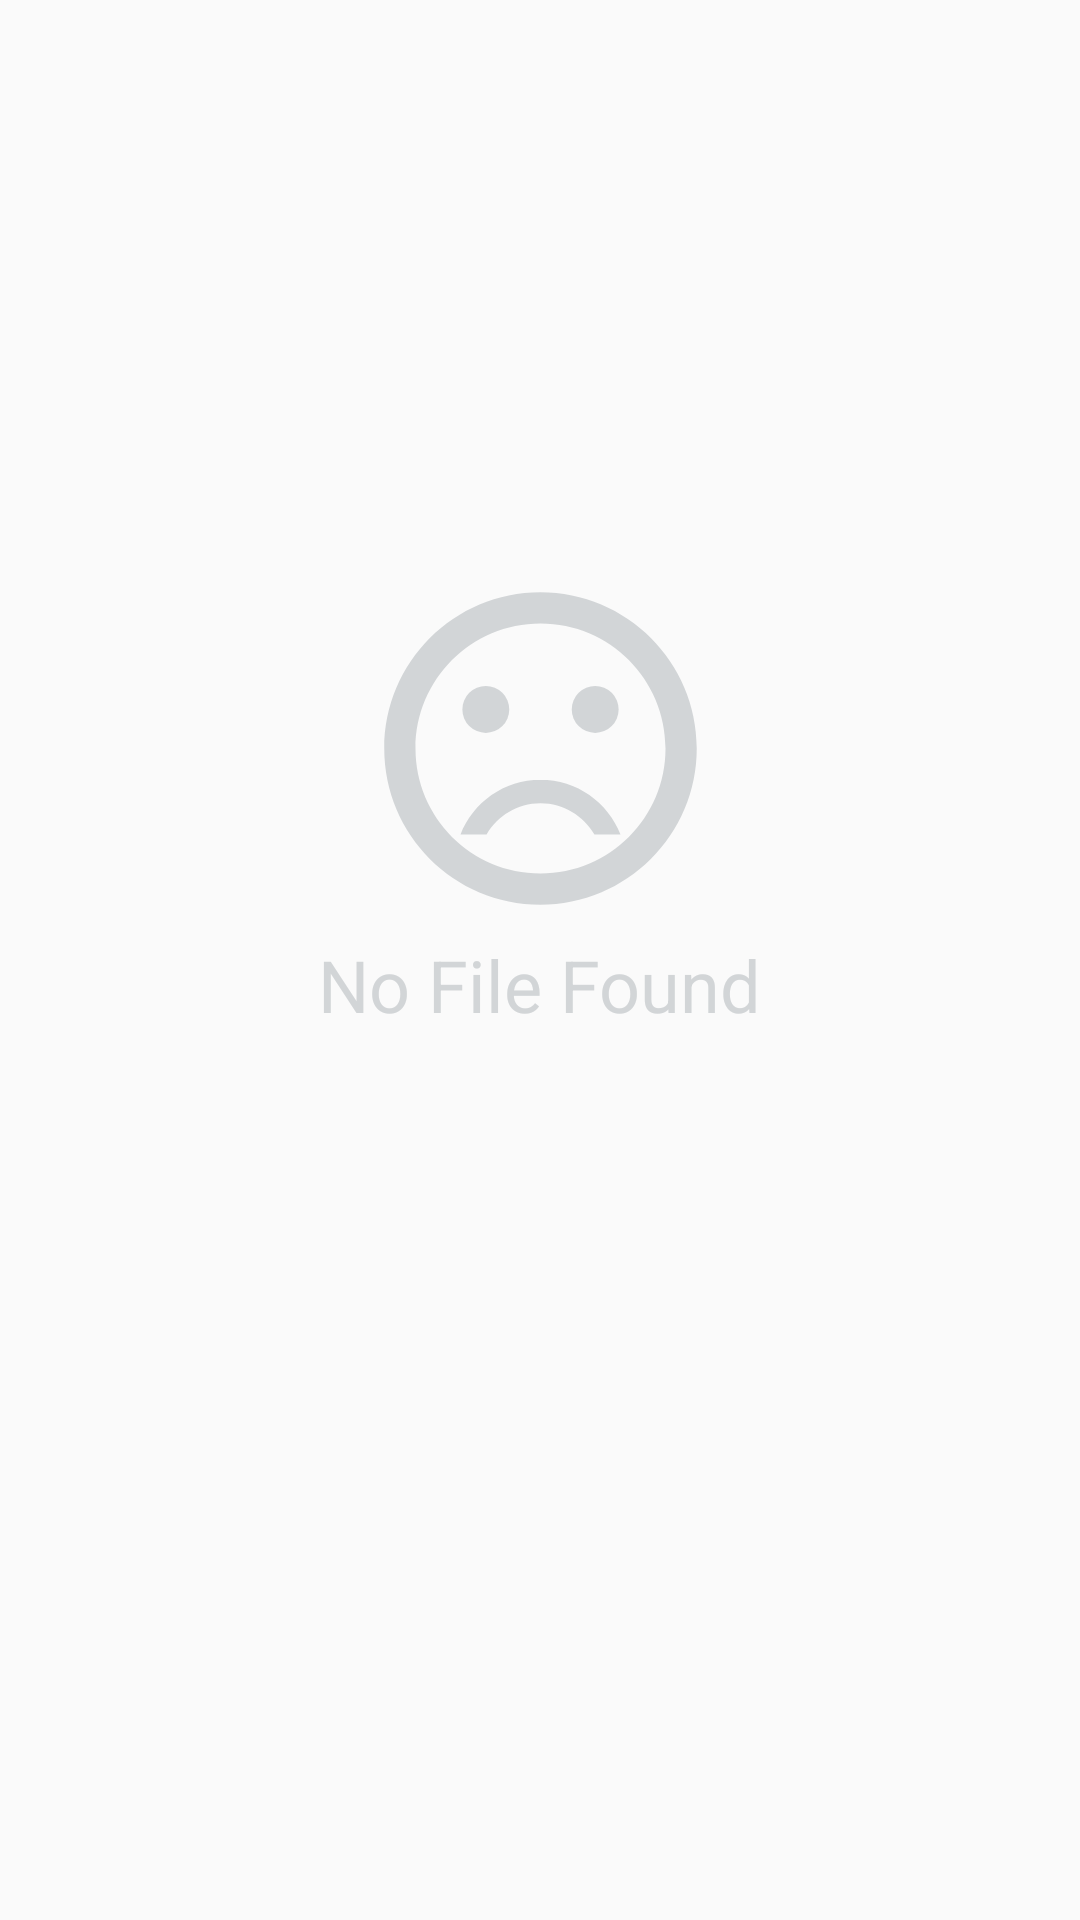

Locate icon controls on the screen. Image size 1080 × 1920, boxes as [x1, y1, x2, y2].
sentiment dissatisfied: [384, 592, 697, 905]
